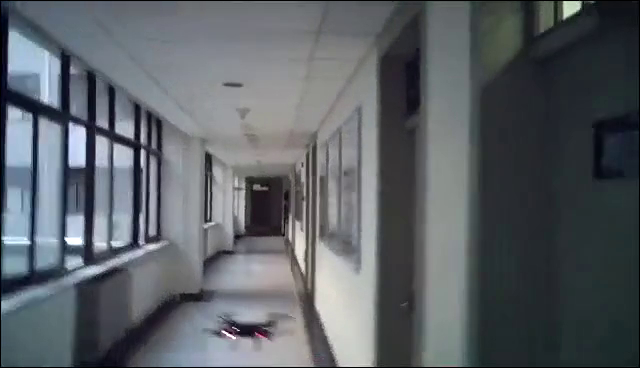drone: (199, 308, 298, 350)
